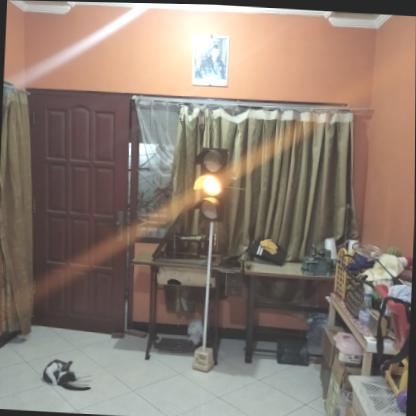yellow: (193, 147, 228, 222)
